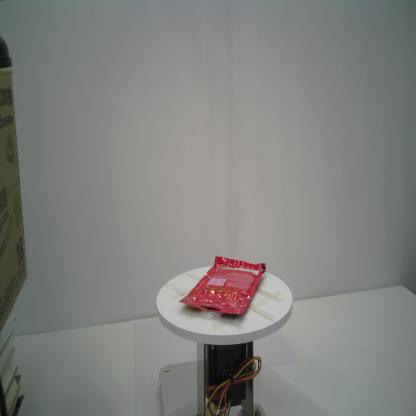Candy: (177, 254, 267, 318)
